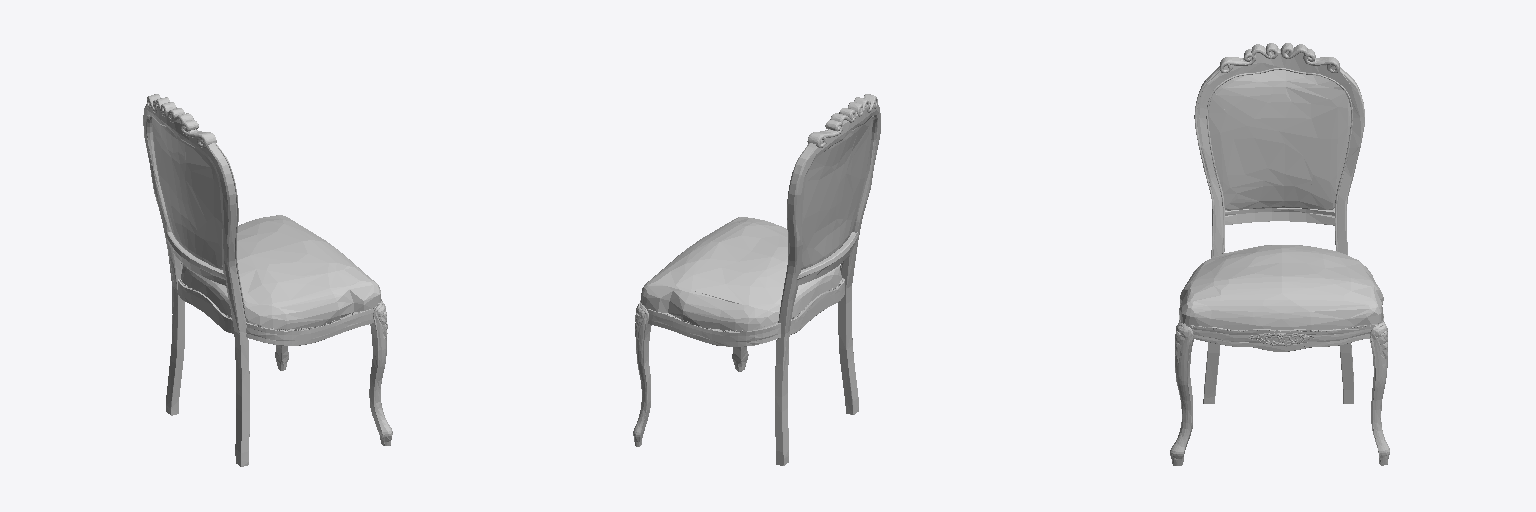
File: 10_8d47cb7b-eff9-46e1-924c-2e33eed6f20c.obj
3 views of the same model, side by side, from view 1: azimuth 30°, elevation 25°; view 2: azimuth 150°, elevation 25°; view 3: azimuth 270°, elevation 25° (orthographic).
Bounding box in the file's own units: 0.5931 × 1.08 × 0.6313.